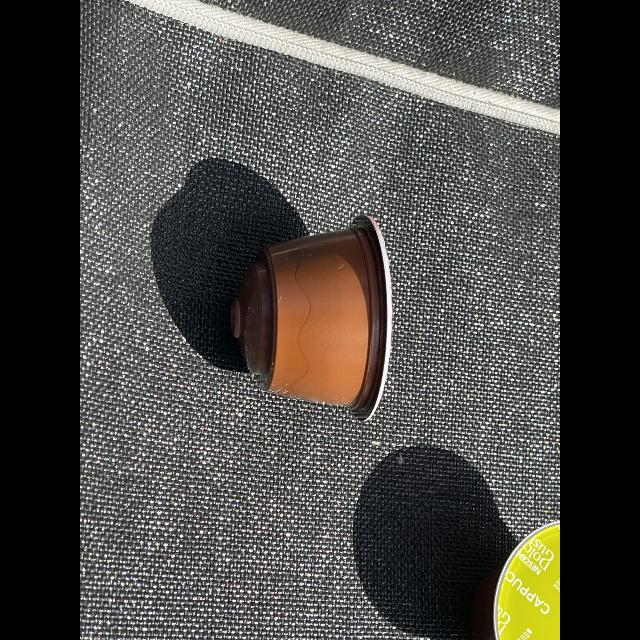intact_capsule: (214, 200, 420, 432)
